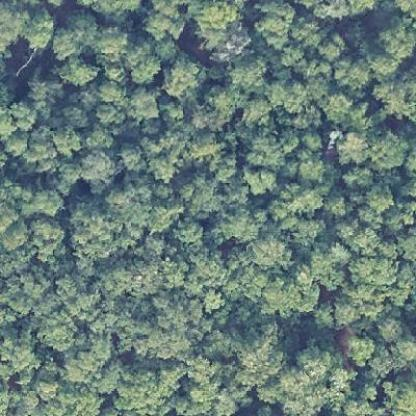tree-top: (106, 359, 188, 412), (218, 196, 266, 245), (348, 250, 404, 288), (178, 174, 221, 220), (159, 54, 201, 98), (326, 51, 374, 89), (39, 304, 76, 353), (77, 146, 113, 196), (122, 42, 159, 85), (239, 162, 283, 198), (34, 212, 66, 261), (226, 52, 270, 87), (334, 128, 372, 165), (127, 83, 164, 121), (49, 121, 84, 157), (341, 330, 376, 363)
